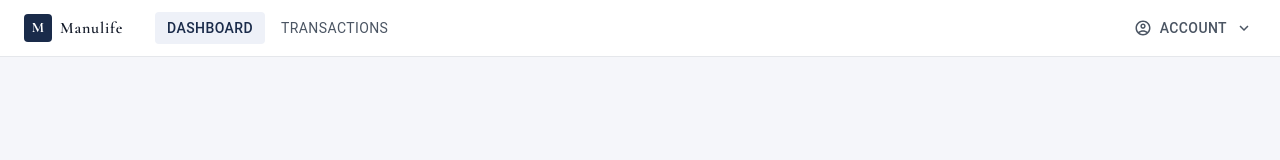
AppLayout — account menu › opens the dropdown menu when the account button is clicked
The image size is (1280, 160).
Click the button "Account" at (1193, 28), box 1131,12 -> 1256,44
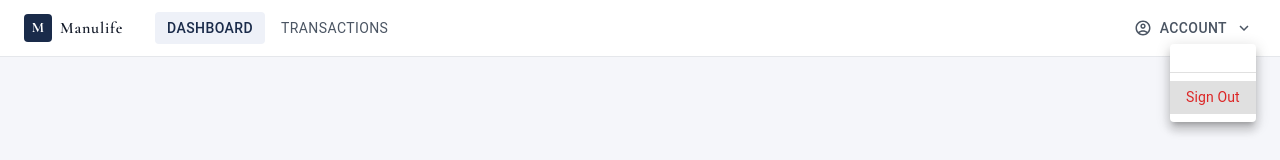
Check: the menu item "Sign Out" is shown, box 1170,81 -> 1256,114
